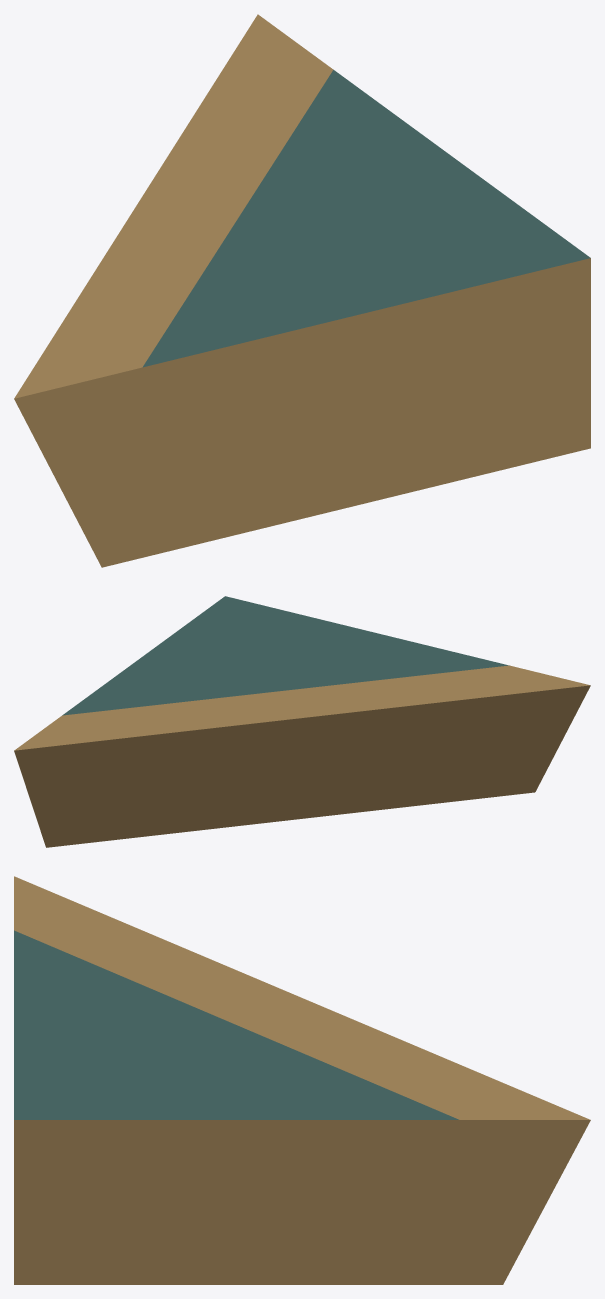
The model's file is Brown_Cliff_Top_Corner_01.fbx.
3 renders of one model, top to bottom at view 1: azimuth 30°, elevation 25°; view 2: azimuth 150°, elevation 25°; view 3: azimuth 270°, elevation 25°, orthographic. The views are drawn at different scales.
Visible parts, largest first — view 1: Mesh1_Brown_Cliff_Top_Corner Model; view 2: Mesh1_Brown_Cliff_Top_Corner Model; view 3: Mesh1_Brown_Cliff_Top_Corner Model.
Boxes of the visible parts, x1=… form: Mesh1_Brown_Cliff_Top_Corner Model: x1=14, y1=14, x2=590, y2=567; Mesh1_Brown_Cliff_Top_Corner Model: x1=14, y1=596, x2=590, y2=847; Mesh1_Brown_Cliff_Top_Corner Model: x1=14, y1=876, x2=590, y2=1284.
Size of the model in its own units: 0.92 by 0.29 by 0.92.
